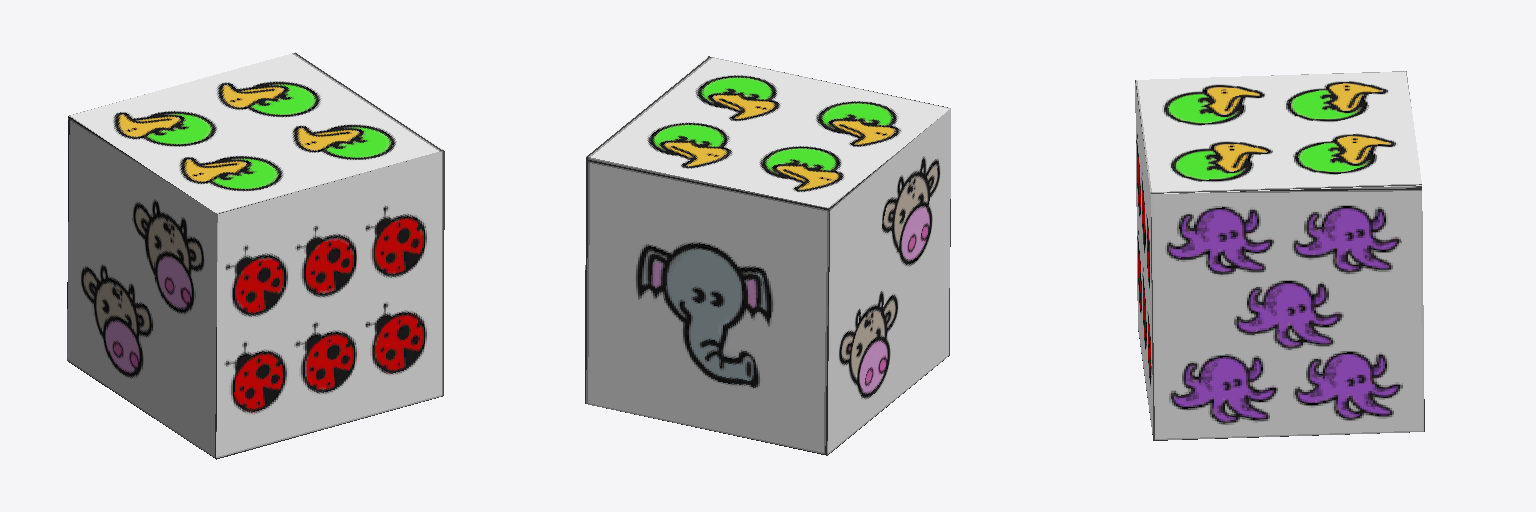
3 views of the same model, side by side, from view 1: azimuth 30°, elevation 25°; view 2: azimuth 150°, elevation 25°; view 3: azimuth 270°, elevation 25° (orthographic).
Parts seen in each view (by area): view 1: Cube.001; view 2: Cube.001; view 3: Cube.001.
Boxes of the visible parts, <box> form: Cube.001: <box>67,52,444,459</box>; Cube.001: <box>585,56,950,455</box>; Cube.001: <box>1135,71,1424,440</box>.
Size of the model in its own units: 2.11 by 2.02 by 2.13.
Materials: 1 (1 with a texture image).